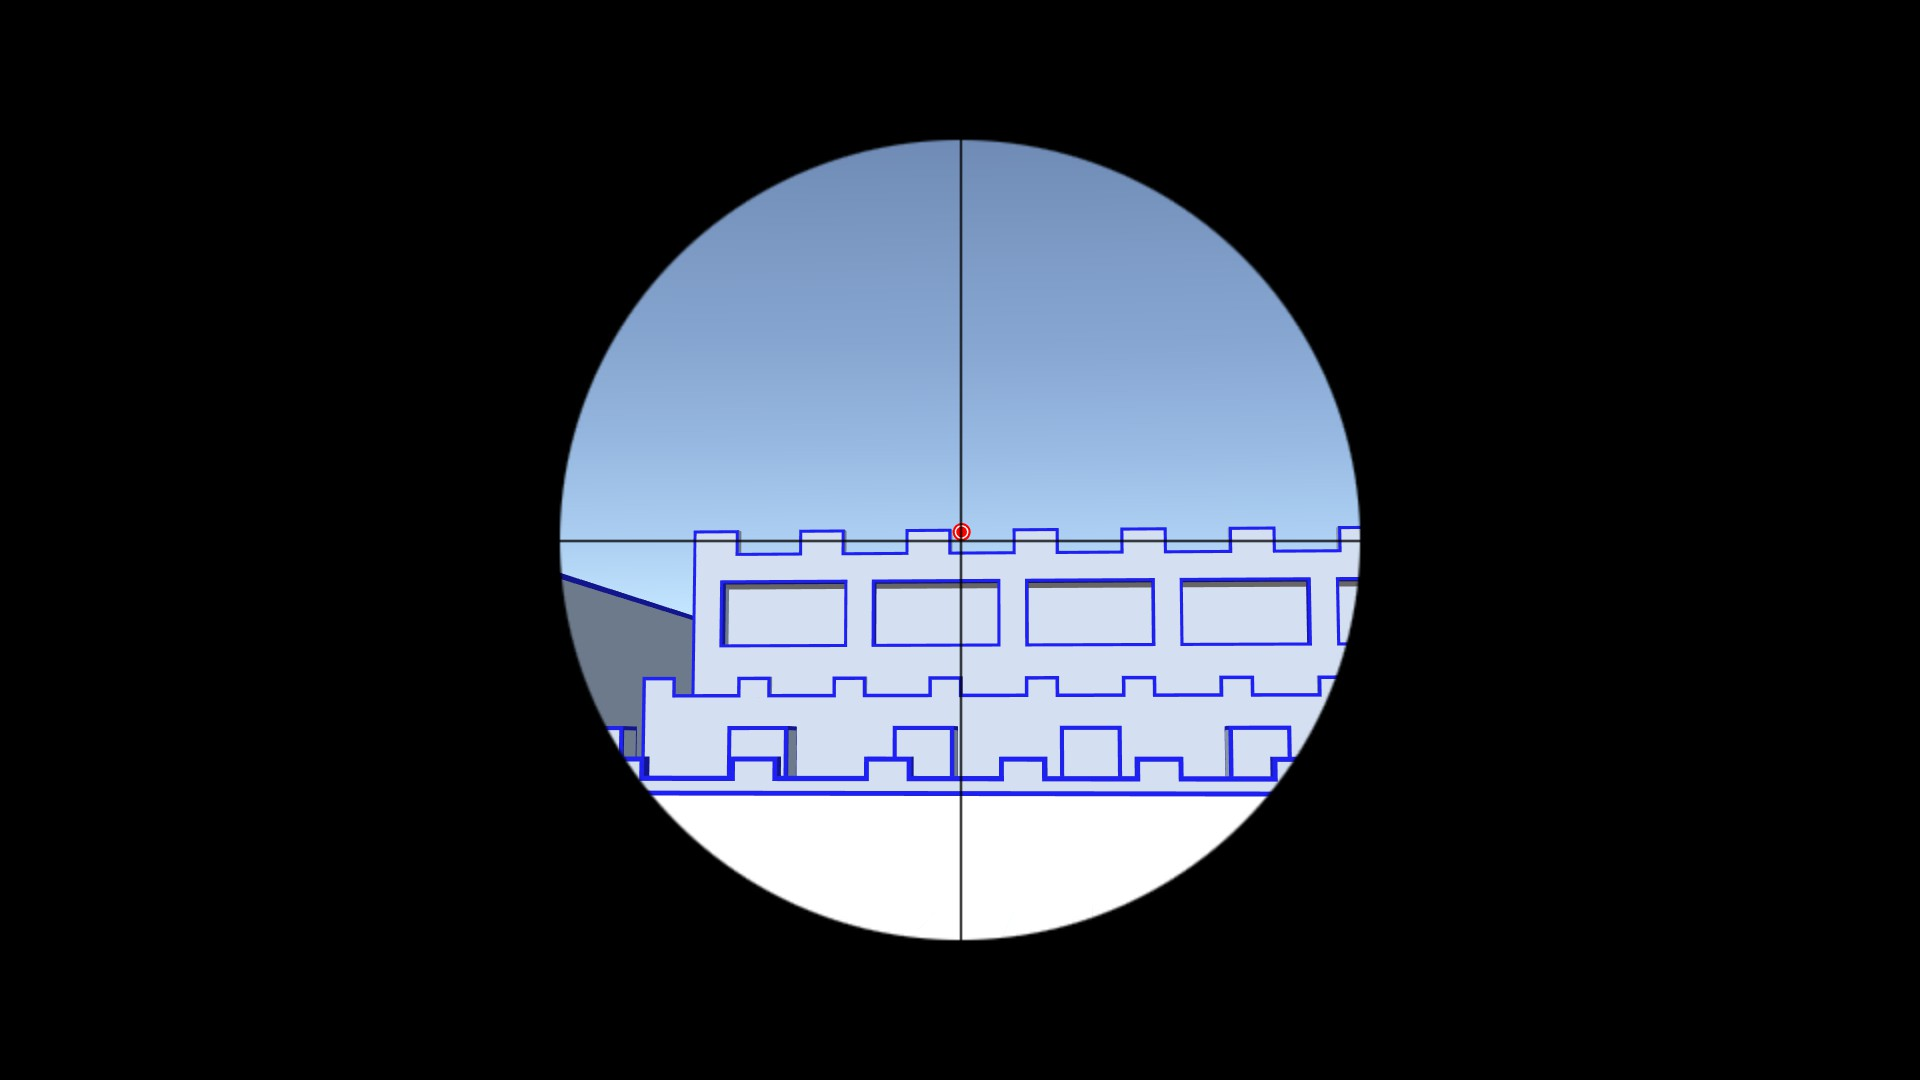target: (952, 521, 971, 543)
